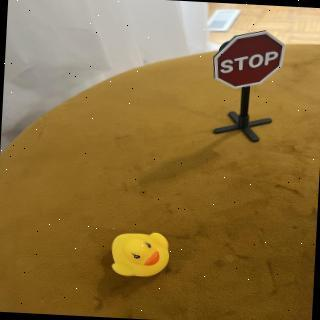duck_regular: (108, 230, 174, 282)
sign_stop: (211, 27, 289, 94)
